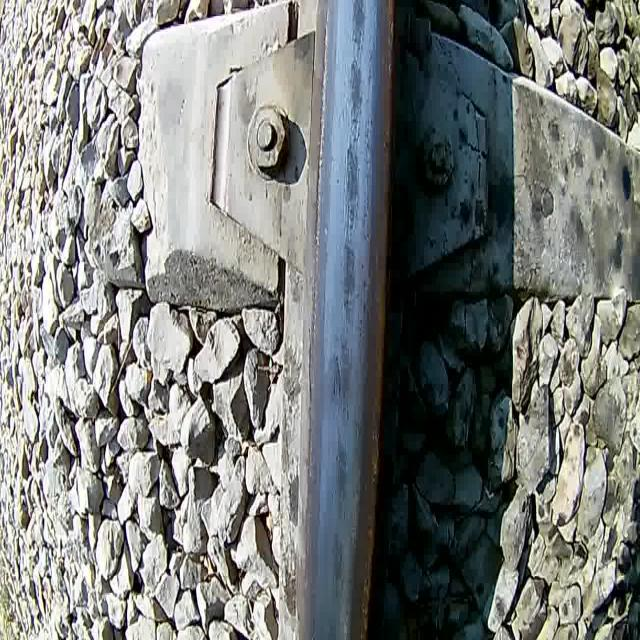Cracks: (342, 150, 353, 238), (351, 161, 363, 234), (329, 351, 344, 404), (352, 93, 364, 154), (359, 269, 370, 327)
Squats: (322, 328, 360, 422), (326, 425, 359, 526), (340, 129, 364, 240), (338, 238, 362, 326), (343, 58, 370, 130), (328, 528, 349, 610), (348, 0, 370, 58)
